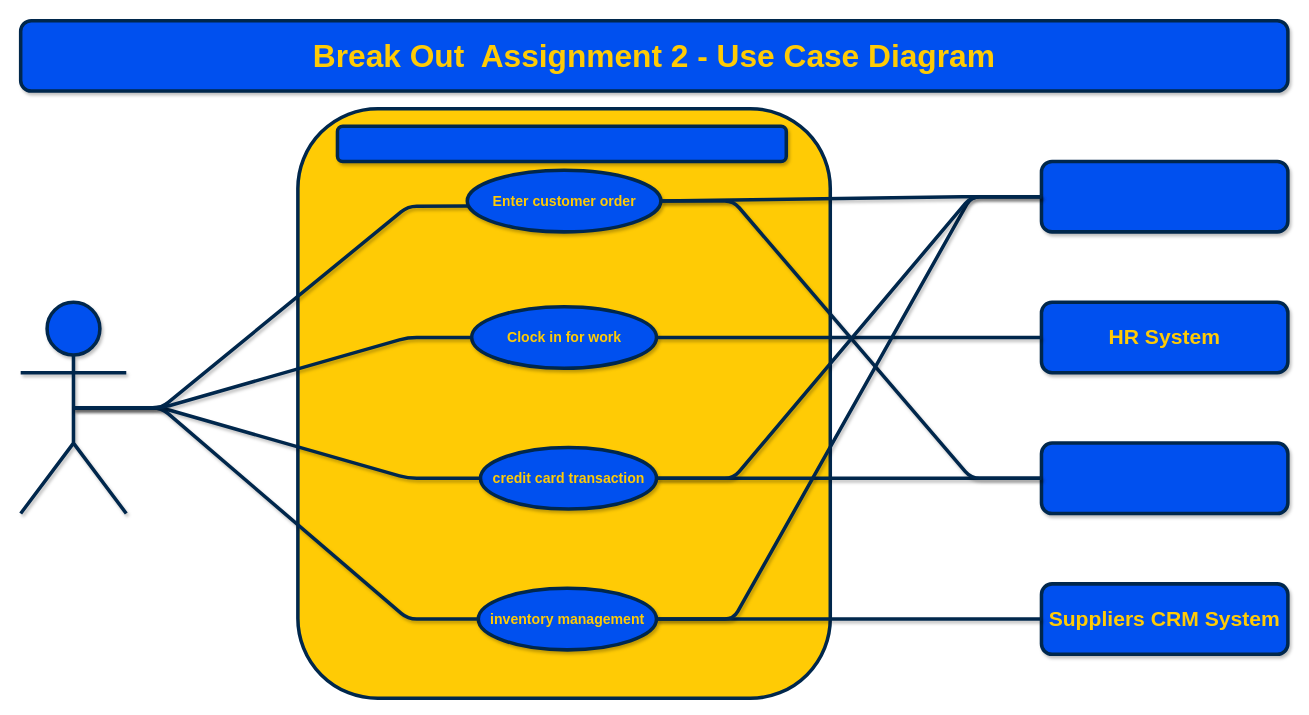
This 1309x715 diagram has some shape labels left out. The shapes that lost their labels are listed below. From the top down, each one's centre as x and y in pixels, then its label:
point (562, 145): Point of Sale System for a Coffee Shop
point (1165, 197): Accounting System
point (74, 409): Cashier
point (1165, 479): Payment Authorizing Service
